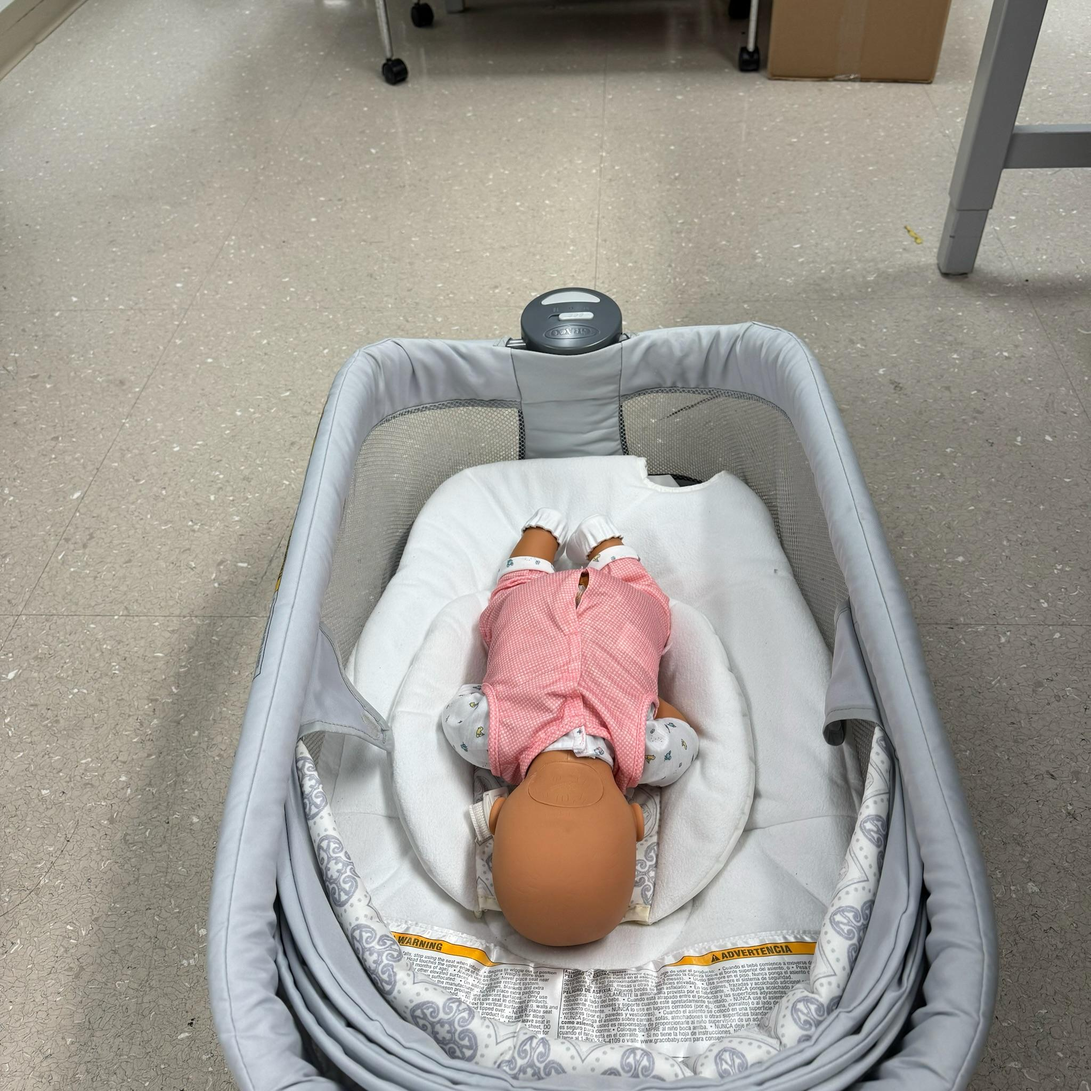baby: (429, 499, 709, 948)
